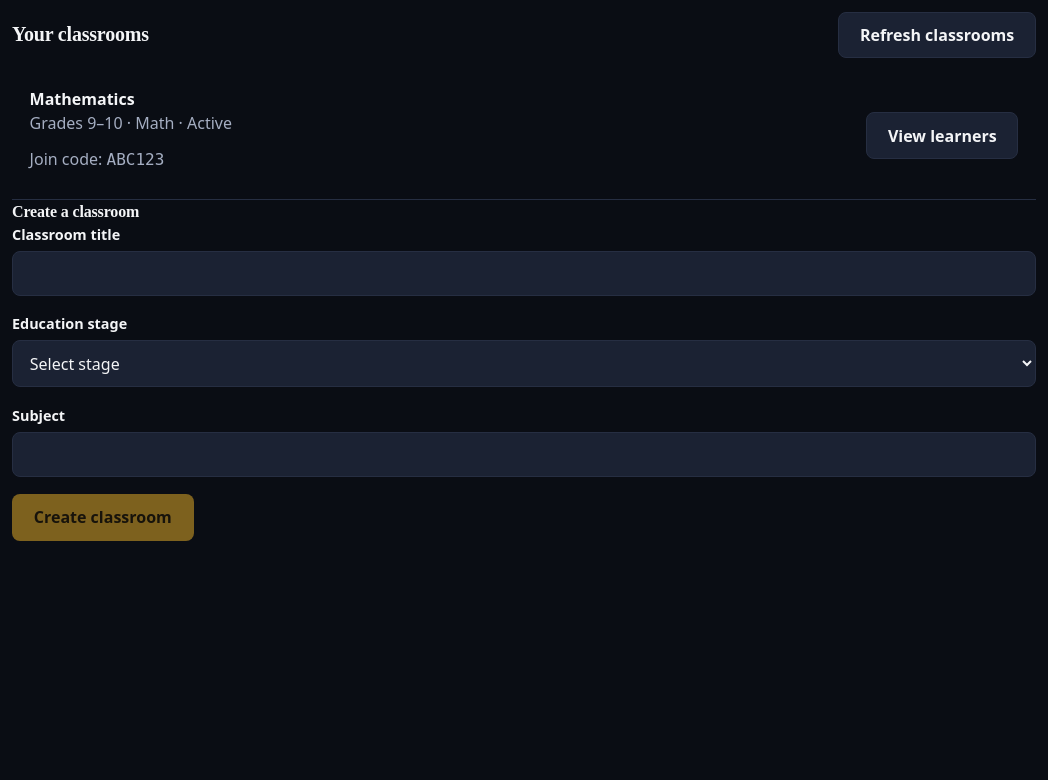
Test: removes stale roster and creation controls when refreshed permissions cannot load
Click the button "View learners" at (942, 136), box [866,112,1018,159]
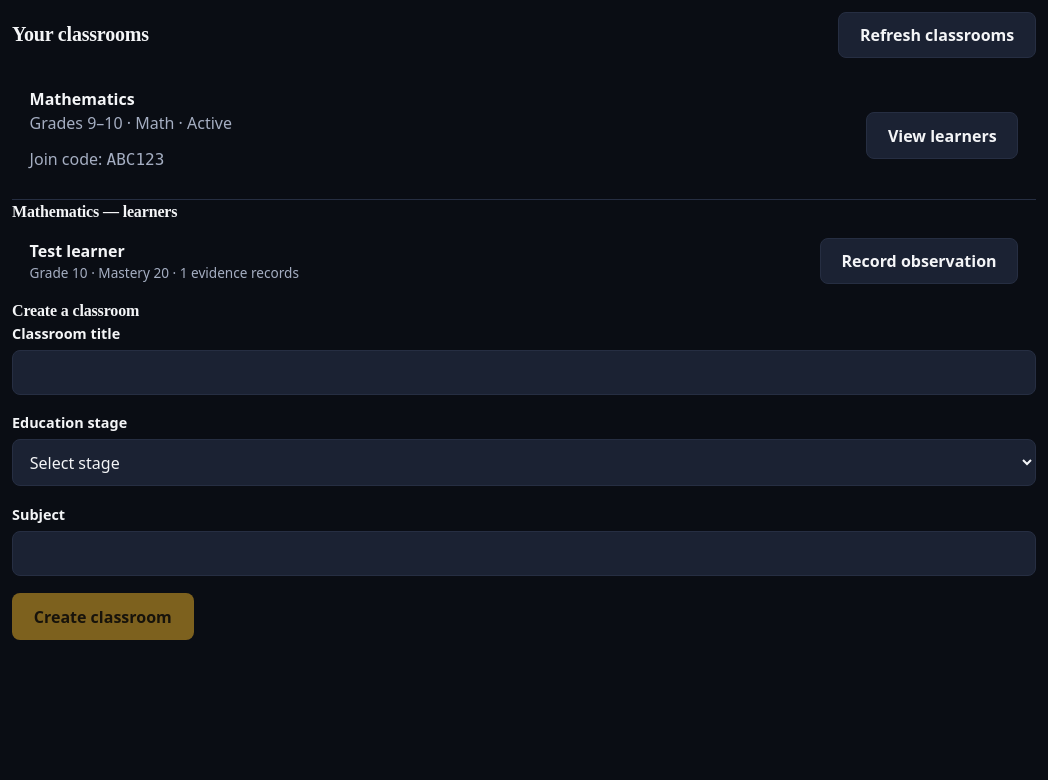
Result: the text "Test learner" is shown at [30,240,125,262]
Click the button "Refresh classrooms" at (937, 35), box [838,12,1036,58]
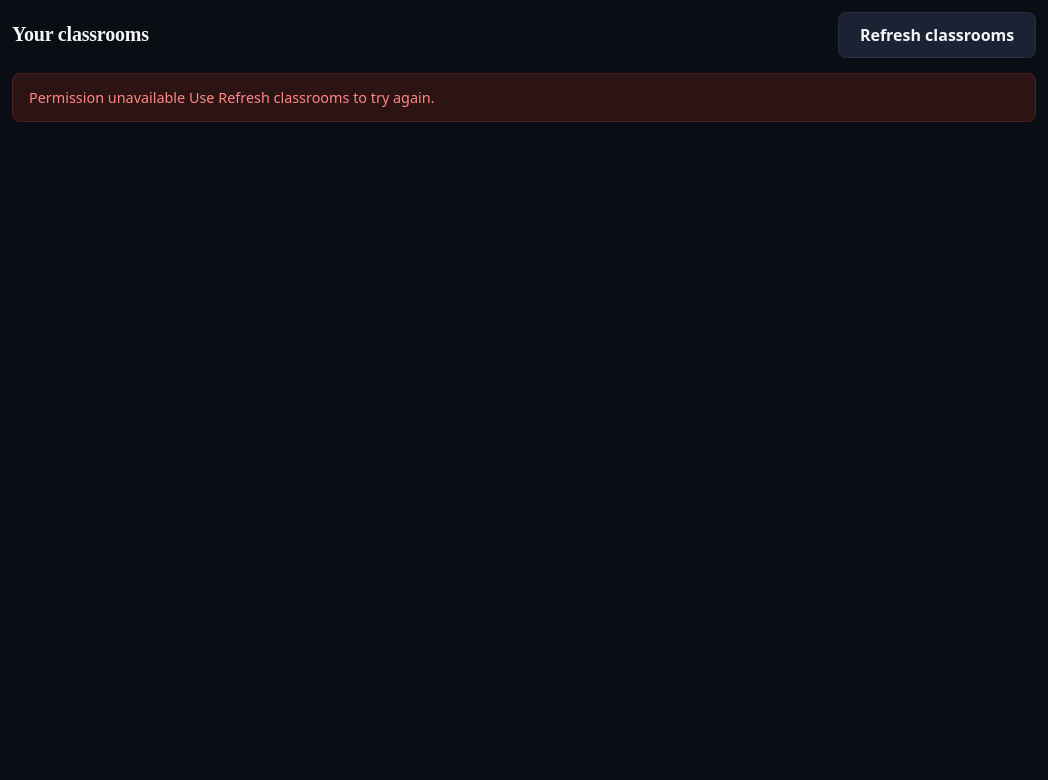
Result: the message "Permission unavailable Use Refresh classrooms to try again." is shown at [12,73,1036,122]
Result: the text "Test learner" is gone
Result: the label labelled "Classroom title" is gone
